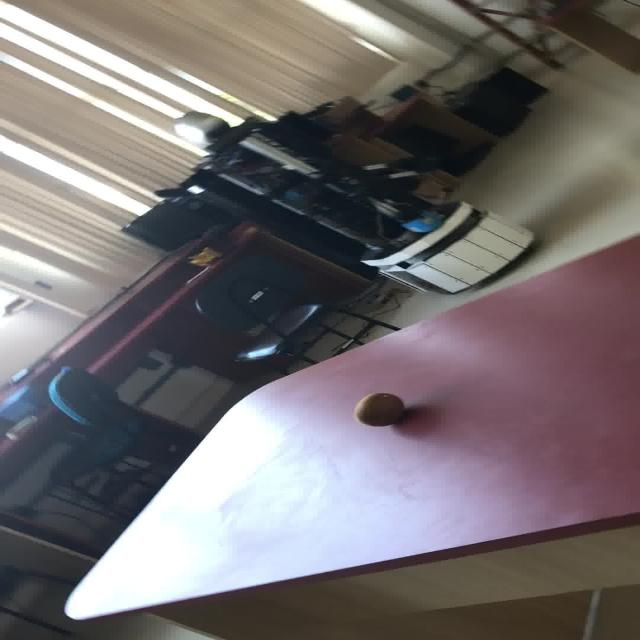kiwi: (352, 392, 404, 426)
